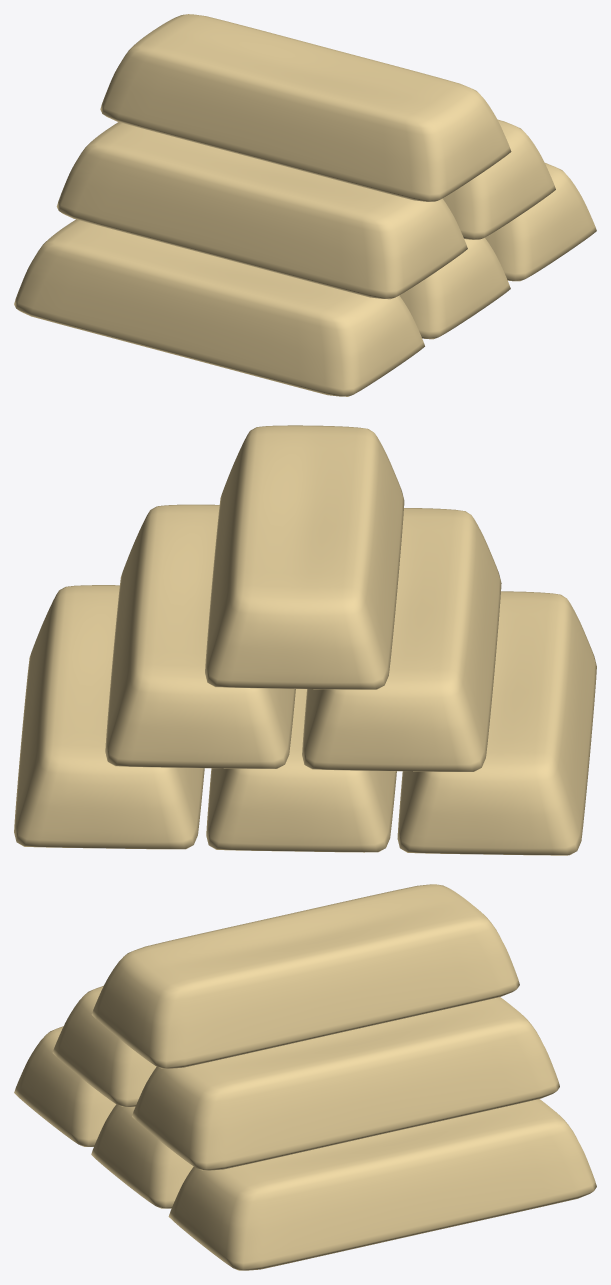
File: money.gltf
3 views of the same model, one above another, from view 1: azimuth 30°, elevation 25°; view 2: azimuth 150°, elevation 25°; view 3: azimuth 270°, elevation 25° (orthographic). The views are drawn at different scales.
Visible parts, largest first — view 1: 3D Gold OBJ.obj.005, 3D Gold OBJ.obj.003, 3D Gold OBJ.obj.004, 3D Gold OBJ.obj.002, 3D Gold OBJ.obj, 3D Gold OBJ.obj.001; view 2: 3D Gold OBJ.obj.005, 3D Gold OBJ.obj.004, 3D Gold OBJ.obj.003, 3D Gold OBJ.obj.002, 3D Gold OBJ.obj, 3D Gold OBJ.obj.001; view 3: 3D Gold OBJ.obj.005, 3D Gold OBJ.obj.002, 3D Gold OBJ.obj, 3D Gold OBJ.obj.004, 3D Gold OBJ.obj.003, 3D Gold OBJ.obj.001.
Boxes of the visible parts, bbox=[...] form: 3D Gold OBJ.obj.005: bbox=[100, 14, 511, 201]; 3D Gold OBJ.obj.003: bbox=[14, 219, 424, 396]; 3D Gold OBJ.obj.004: bbox=[56, 122, 467, 299]; 3D Gold OBJ.obj.002: bbox=[442, 119, 555, 239]; 3D Gold OBJ.obj: bbox=[485, 163, 596, 281]; 3D Gold OBJ.obj.001: bbox=[399, 237, 510, 339]; 3D Gold OBJ.obj.005: bbox=[205, 425, 404, 689]; 3D Gold OBJ.obj.004: bbox=[302, 508, 501, 771]; 3D Gold OBJ.obj.003: bbox=[397, 591, 596, 855]; 3D Gold OBJ.obj.002: bbox=[105, 504, 295, 768]; 3D Gold OBJ.obj: bbox=[14, 585, 204, 849]; 3D Gold OBJ.obj.001: bbox=[206, 689, 396, 852]; 3D Gold OBJ.obj.005: bbox=[91, 884, 519, 1068]; 3D Gold OBJ.obj.002: bbox=[132, 997, 559, 1170]; 3D Gold OBJ.obj: bbox=[168, 1099, 596, 1270]; 3D Gold OBJ.obj.004: bbox=[52, 986, 156, 1106]; 3D Gold OBJ.obj.003: bbox=[14, 1026, 116, 1146]; 3D Gold OBJ.obj.001: bbox=[91, 1104, 193, 1208].
Bounding box in the file's own units: 7.5 × 2.84 × 7.12.
